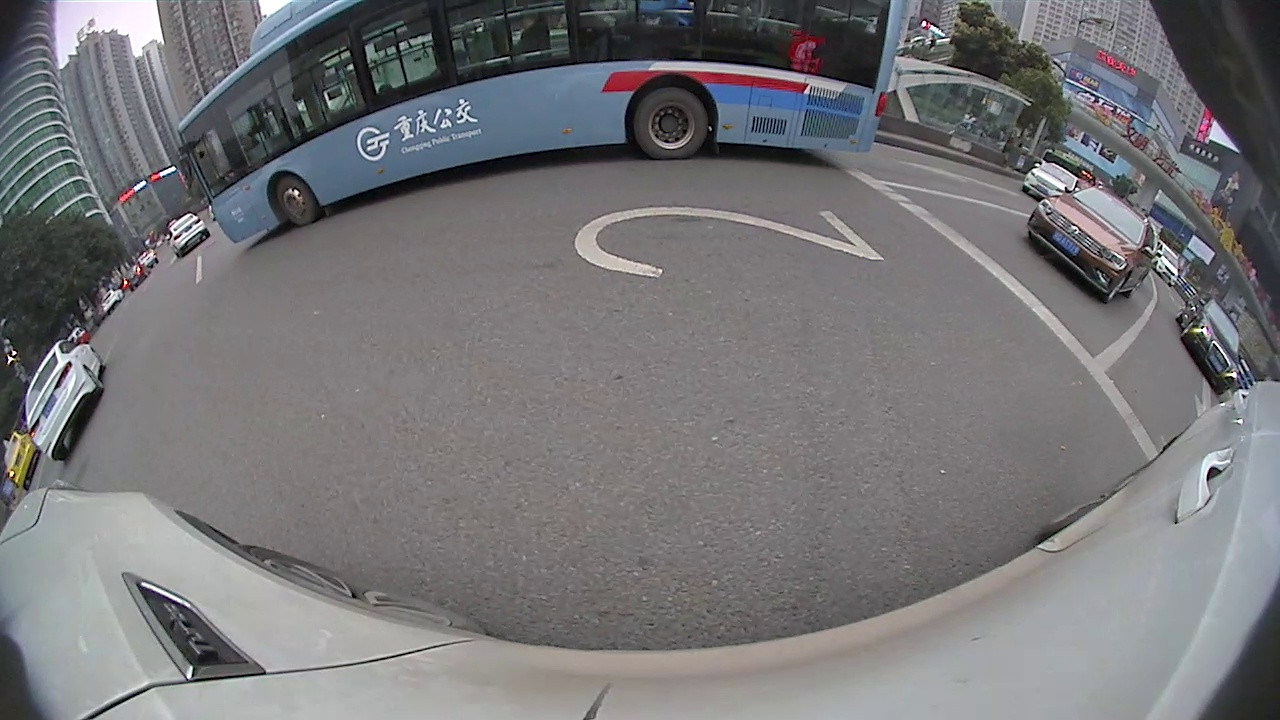bus: (175, 1, 905, 246)
car: (1023, 184, 1161, 305), (24, 337, 107, 463), (1174, 298, 1243, 396), (1024, 160, 1083, 203), (1, 428, 36, 494), (168, 212, 209, 258), (1151, 241, 1181, 287)
front: (274, 176, 320, 227), (1102, 273, 1132, 304), (1173, 321, 1195, 341)
rear: (630, 86, 710, 160), (81, 365, 108, 391), (1125, 277, 1146, 303)
